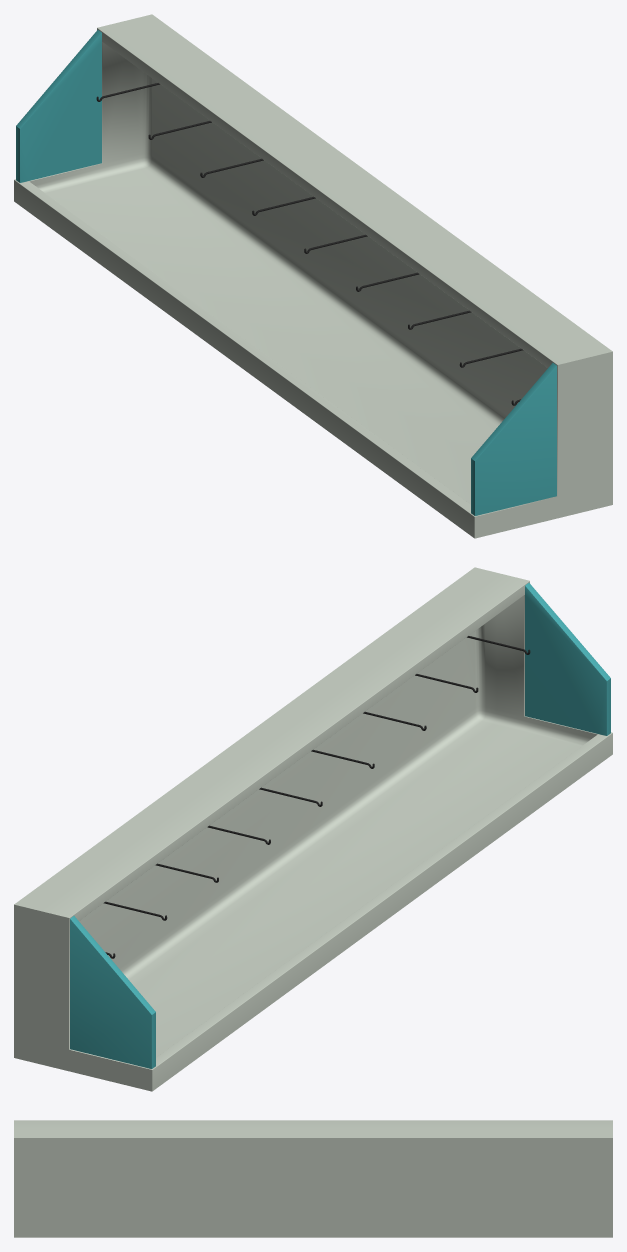
The model's file is Refrigerador.fbx.
3 renders of one model, top to bottom at view 1: azimuth 30°, elevation 25°; view 2: azimuth 150°, elevation 25°; view 3: azimuth 270°, elevation 25°, orthographic. The views are drawn at different scales.
Parts seen in each view (by area): view 1: Box021; view 2: Box021; view 3: Box021.
Boxes of the visible parts, bbox=[...] form: Box021: bbox=[14, 14, 612, 538]; Box021: bbox=[14, 567, 612, 1091]; Box021: bbox=[14, 1120, 612, 1237].
Size of the model in its own units: 2 by 2.12 by 11.55.
